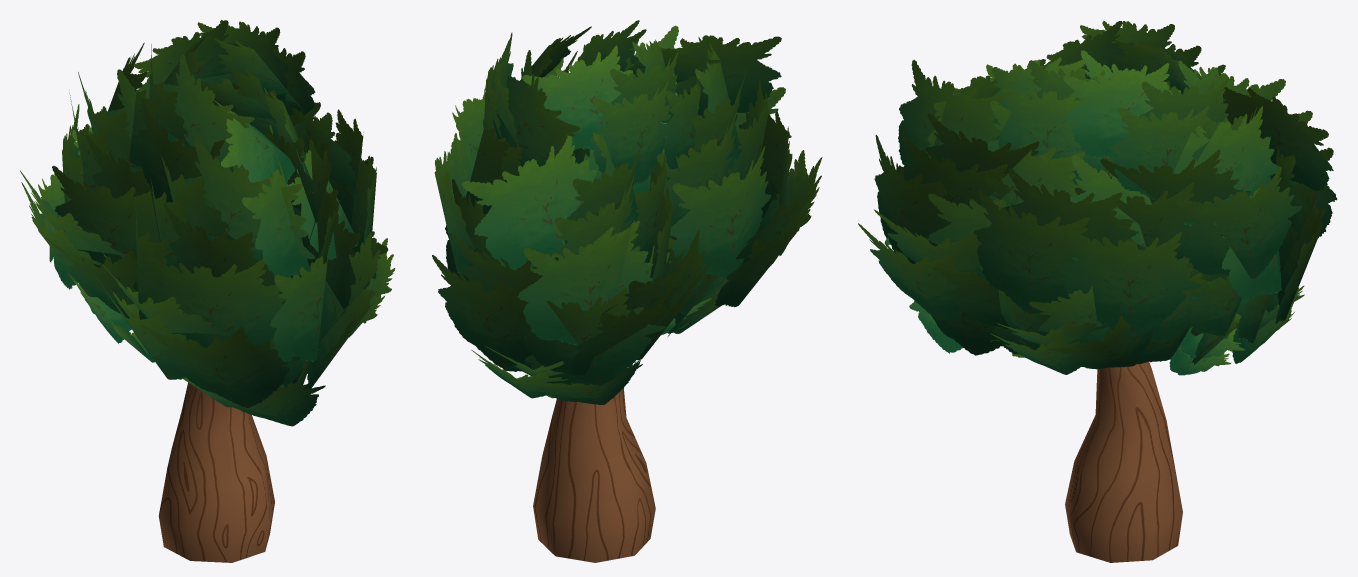
Rendered from export boom groot 01.fbx.
3 views of the same model, side by side, from view 1: azimuth 30°, elevation 25°; view 2: azimuth 150°, elevation 25°; view 3: azimuth 270°, elevation 25° (orthographic).
Visible parts, largest first — view 1: Boom_groot; view 2: Boom_groot; view 3: Boom_groot.
Boxes of the visible parts, box(x1,y1,x2,y2) form: Boom_groot: box(20, 20, 395, 562); Boom_groot: box(432, 20, 822, 562); Boom_groot: box(858, 21, 1337, 562).
Bounding box in the file's own units: 13.98 × 22.35 × 19.52.
1 material, 1 textured.
